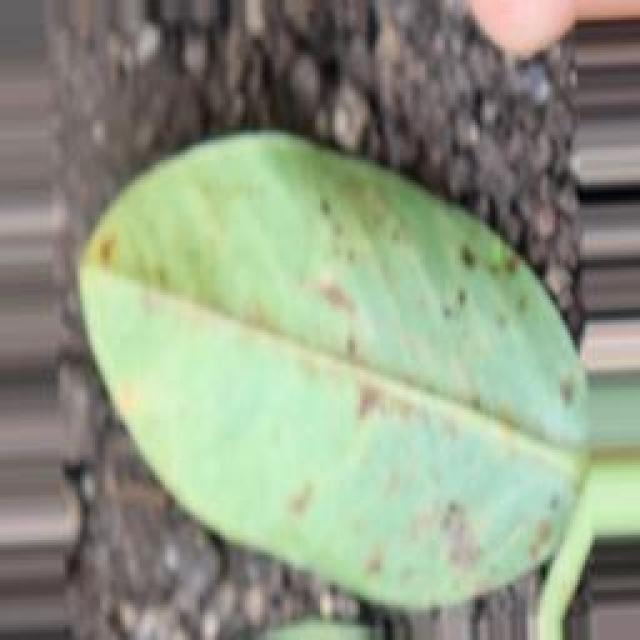Whitefly: (77, 185, 624, 597)
